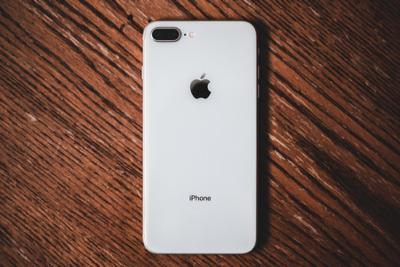Mobile Phone: (140, 19, 258, 254)
